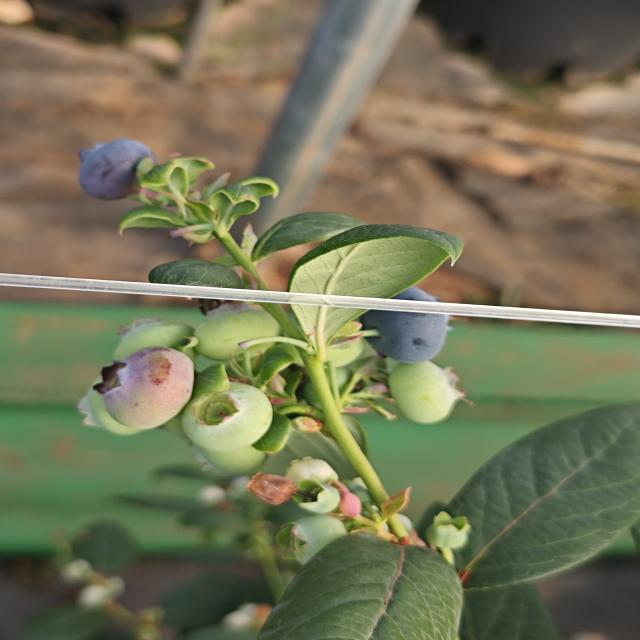ripe: (373, 285, 456, 364), (59, 137, 154, 196)
